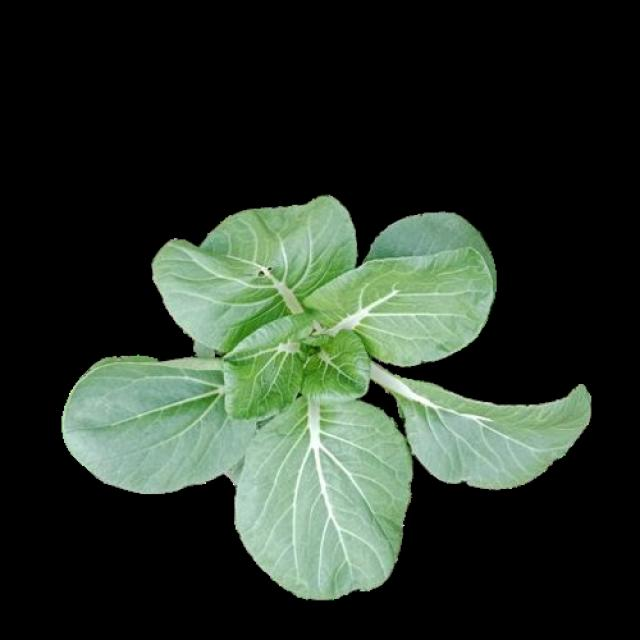mature: (62, 196, 588, 599)
unhealthy: (150, 197, 357, 355)
